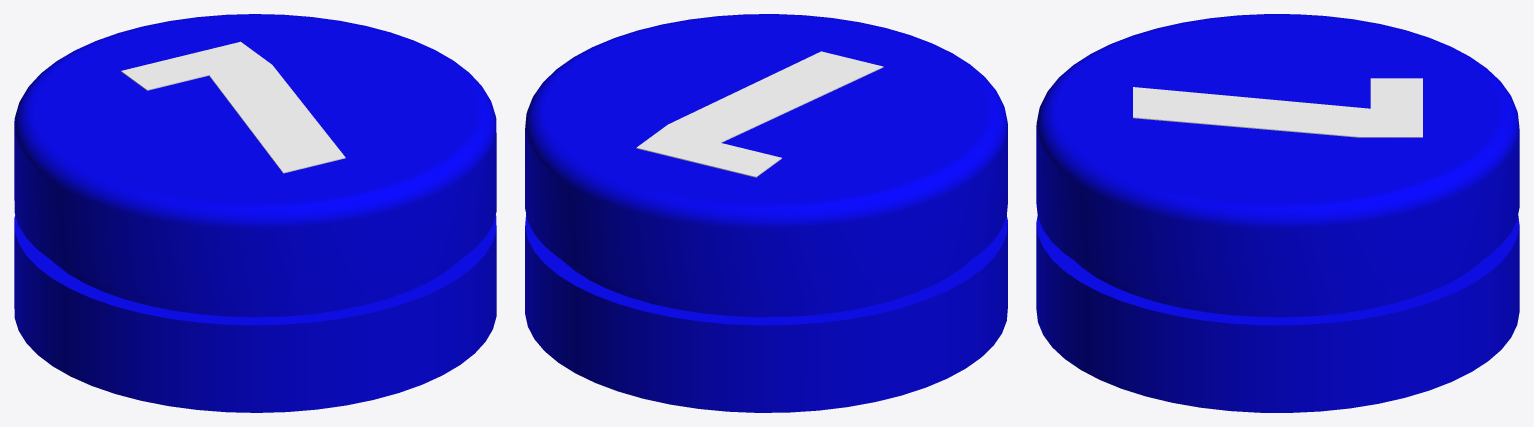
Rendered from nubot_frame7_blue.dae.
3 views of the same model, side by side, from view 1: azimuth 30°, elevation 25°; view 2: azimuth 150°, elevation 25°; view 3: azimuth 270°, elevation 25° (orthographic).
Parts seen in each view (by area): view 1: SketchUp (×3), instance_0; view 2: SketchUp (×3), instance_0; view 3: SketchUp (×3), instance_0.
Boxes of the visible parts, x1,y1,x2,y2 form: SketchUp (×3): (14,14,496,412); instance_0: (121,41,345,173); SketchUp (×3): (525,14,1007,412); instance_0: (636,51,883,177); SketchUp (×3): (1036,14,1519,412); instance_0: (1133,78,1422,137).
Size of the model in its own units: 19.66 by 19.68 by 9.09.
